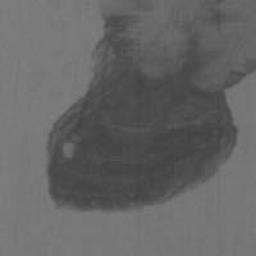Oil spot: (44, 0, 256, 215)
